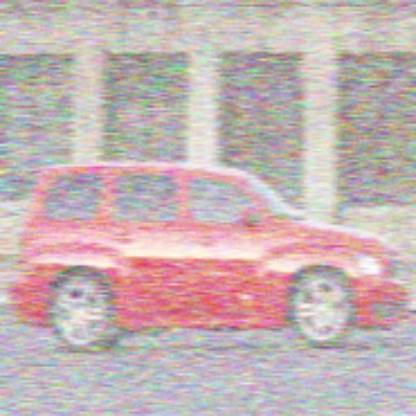Vehicle: (9, 160, 409, 351)
